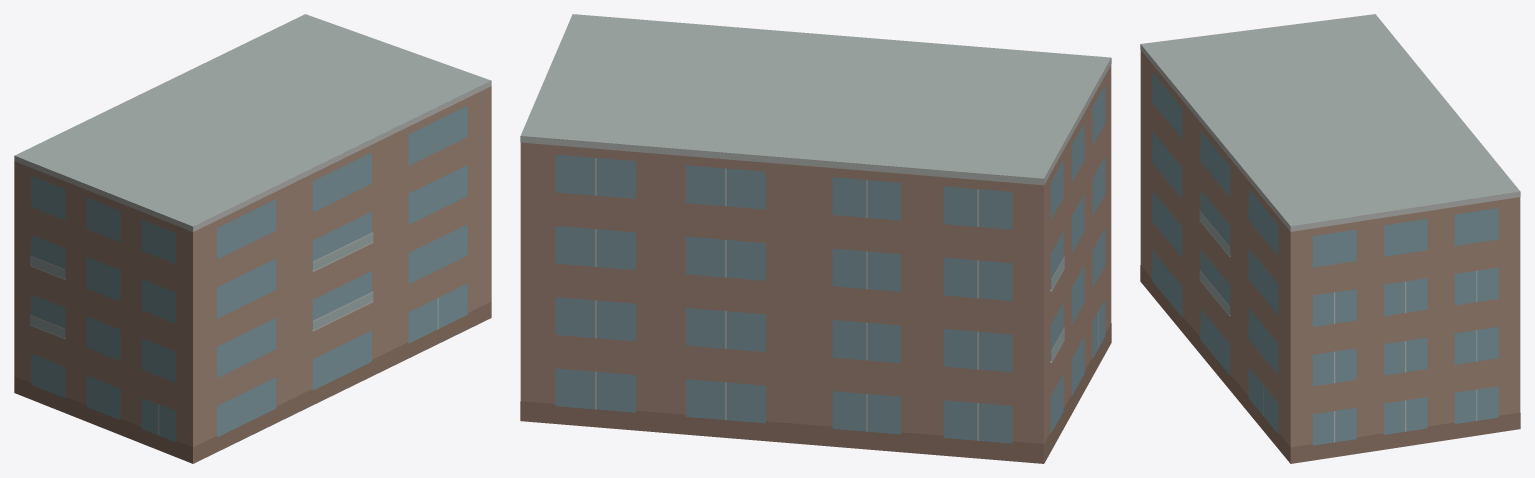
The model's file is survey-upis-32786066.glb.
3 renders of one model, left to right at view 1: azimuth 30°, elevation 25°; view 2: azimuth 150°, elevation 25°; view 3: azimuth 270°, elevation 25°, orthographic. The views are drawn at different scales.
Parts seen in each view (by area): view 1: survey-upis-32786066.tmp; view 2: survey-upis-32786066.tmp; view 3: survey-upis-32786066.tmp.
Boxes of the visible parts, x1,y1,x2,y2 form: survey-upis-32786066.tmp: (14,14,491,463); survey-upis-32786066.tmp: (520,14,1111,463); survey-upis-32786066.tmp: (1140,14,1520,463).
Bounding box in the file's own units: 20.14 × 10.5 × 15.23.
